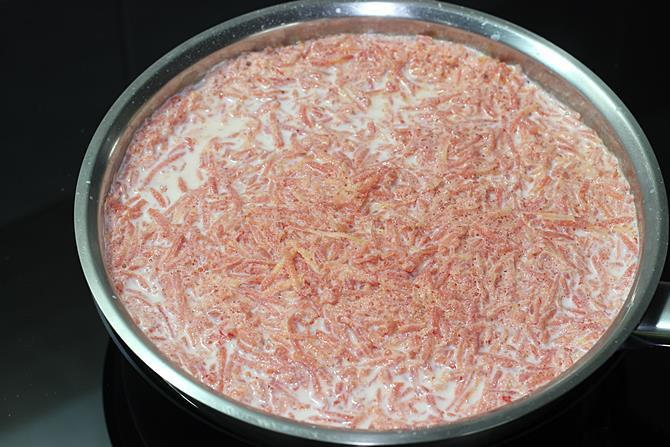Gajar ka halwa: (99, 7, 648, 438)
